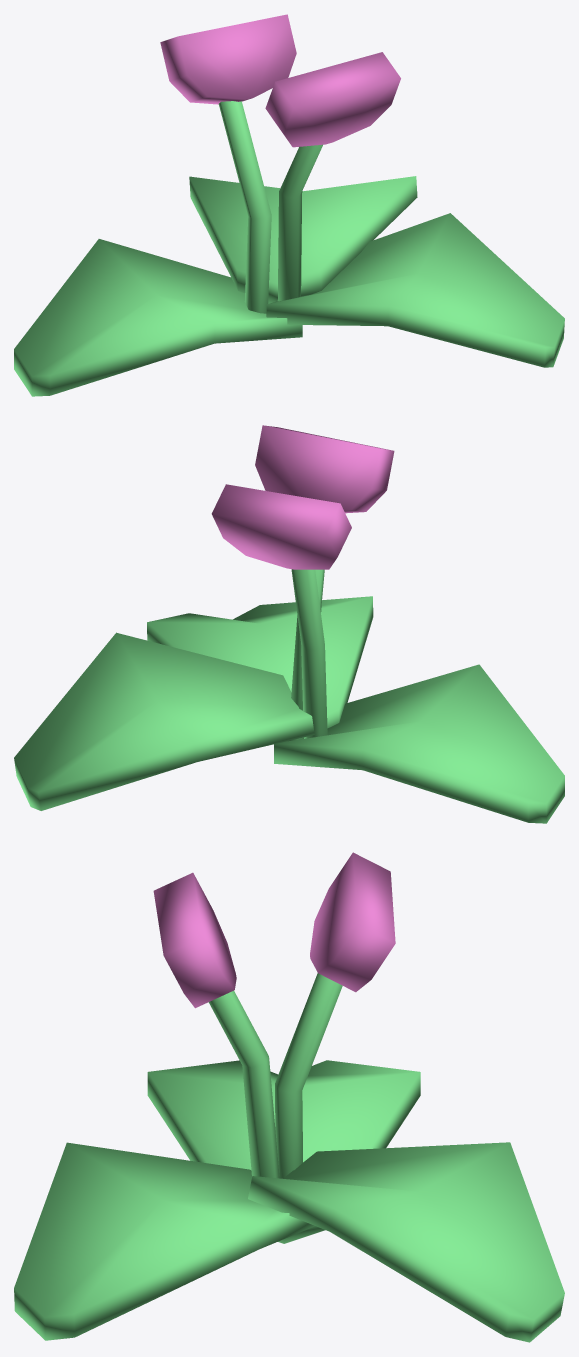
Rendered from mapPlant001.fbx.
3 views of the same model, one above another, from view 1: azimuth 30°, elevation 25°; view 2: azimuth 150°, elevation 25°; view 3: azimuth 270°, elevation 25° (orthographic). The views are drawn at different scales.
Parts seen in each view (by area): view 1: leaf, leaf.001, leaf.002, plantHead.001, plantHead, sap, sap.001; view 2: leaf.002, leaf, leaf.001, plantHead.001, plantHead, sap, sap.001; view 3: leaf.002, leaf.001, leaf, plantHead.001, plantHead, sap, sap.001.
Part boxes in pixels (x1,y1,x2,y2): leaf: [14, 239, 302, 396]; leaf.001: [266, 213, 564, 367]; leaf.002: [189, 176, 417, 302]; plantHead.001: [160, 14, 296, 104]; plantHead: [265, 52, 400, 147]; sap: [218, 101, 271, 313]; sap.001: [277, 144, 322, 301]; leaf.002: [14, 632, 314, 810]; leaf: [274, 664, 564, 823]; leaf.001: [147, 596, 373, 741]; plantHead.001: [211, 484, 351, 569]; plantHead: [255, 425, 394, 513]; sap: [291, 569, 327, 738]; sap.001: [291, 569, 324, 710]; leaf.002: [248, 1142, 564, 1342]; leaf.001: [14, 1142, 315, 1340]; leaf: [147, 1060, 420, 1243]; plantHead.001: [310, 852, 395, 992]; plantHead: [153, 872, 236, 1008]; sap: [275, 973, 342, 1178]; sap.001: [208, 990, 279, 1178].
Size of the model in its own units: 68.98 by 44.97 by 62.95.
